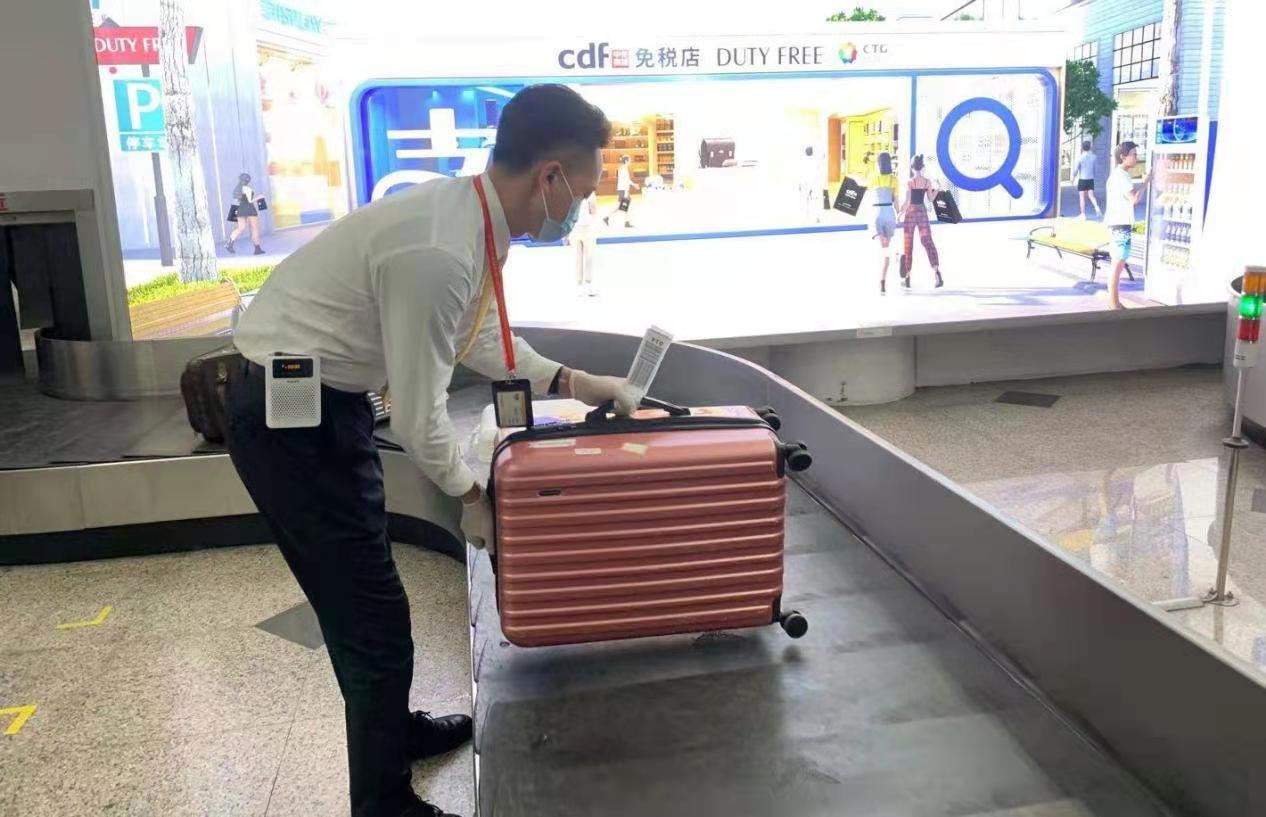baggage: (487, 386, 821, 645)
